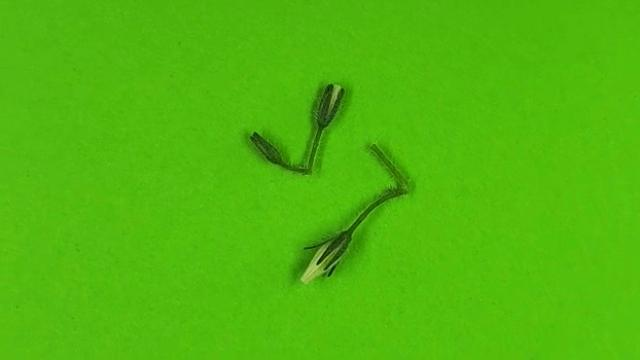Flower Bud: (300, 229, 351, 285), (314, 83, 345, 126), (249, 131, 286, 166)
